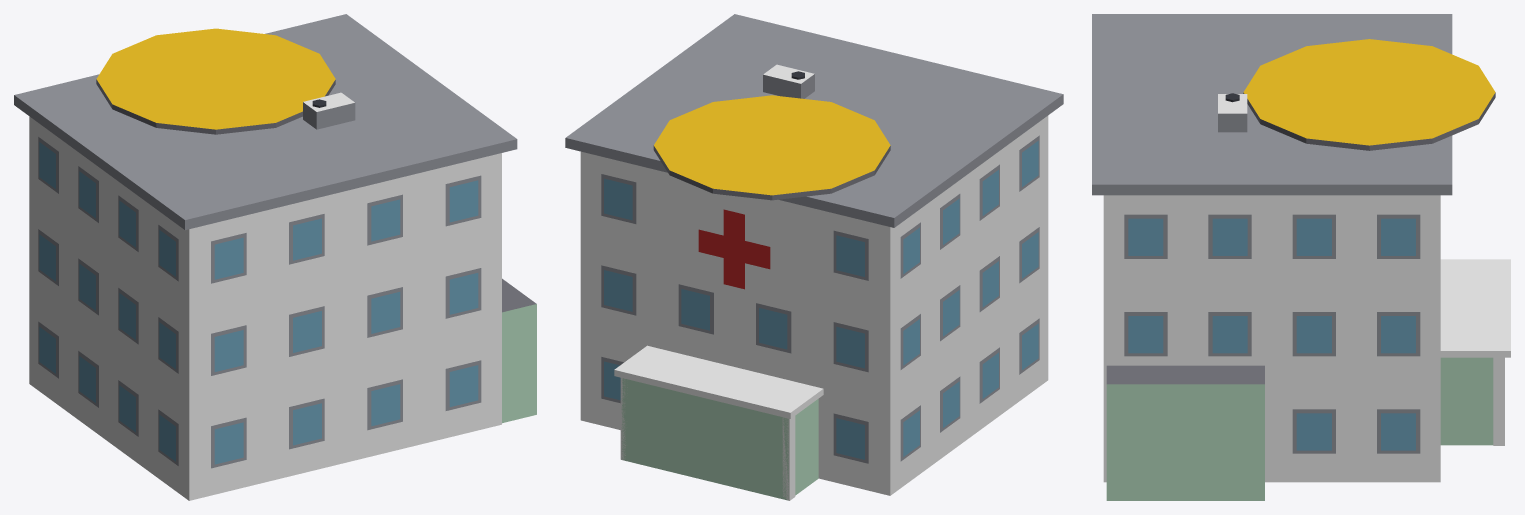
The model's file is Svc_health.fbx.
3 renders of one model, left to right at view 1: azimuth 30°, elevation 25°; view 2: azimuth 150°, elevation 25°; view 3: azimuth 270°, elevation 25°, orthographic. The views are drawn at different scales.
Parts seen in each view (by area): view 1: Svc_health_LOD0; view 2: Svc_health_LOD0; view 3: Svc_health_LOD0.
Part boxes in pixels (x1,y1,x2,y2): Svc_health_LOD0: (14, 14, 536, 500); Svc_health_LOD0: (565, 14, 1063, 500); Svc_health_LOD0: (1092, 14, 1510, 500).
Size of what is drawn, in the model's own units: 1490 by 1218 by 1430.
1 material, 1 textured.
